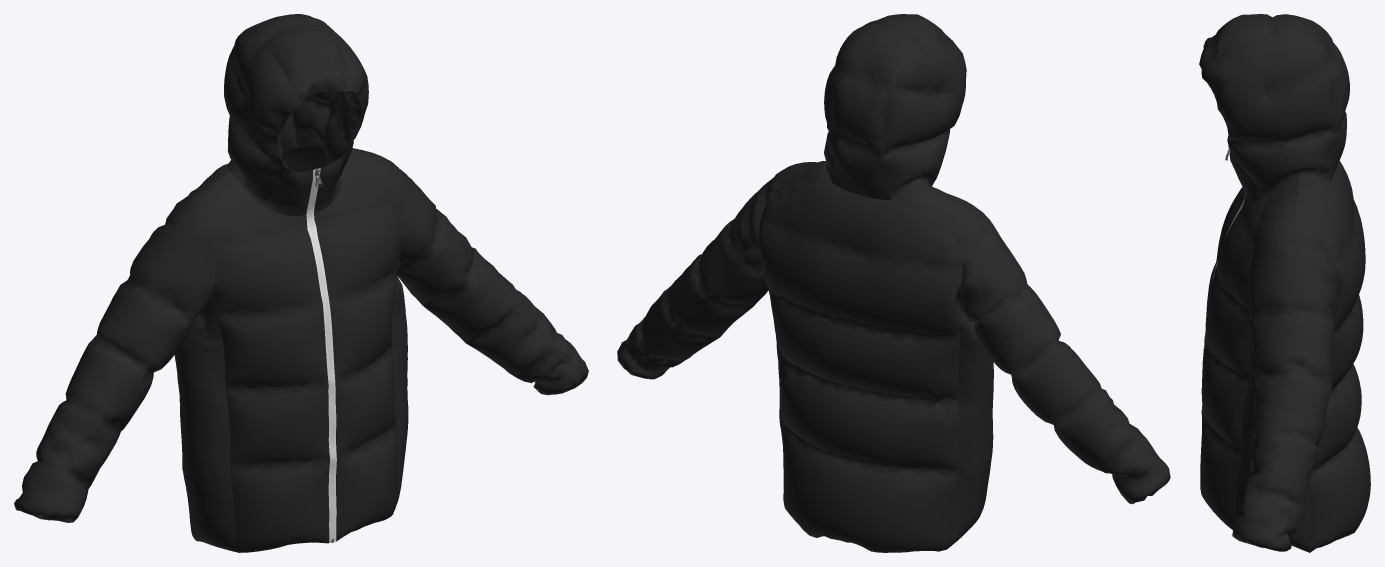
File: blackairjacket.glb
The picture shows the model from 3 angles, left to right: view 1: azimuth 30°, elevation 25°; view 2: azimuth 150°, elevation 25°; view 3: azimuth 270°, elevation 25°; orthographic projection. The views are drawn at different scales.
Visible parts, largest first — view 1: RN20M4.0026_Node_5, RN20M4.0049_Node_37, RN20M4.0027_Node_7, RN20M4.0046_Node_36, RN20M4.0030_Node_18, RN20M4Z.0048_Node_4, RN20M4Z.0053_Node_15, RN20M4Z.0060_Node_35, RN20M4.0048_Node_39, RN20M4.0028_Node_8, RN20M4Z.0057_Node_31, RN20M4Z.0056_Node_34 (+8 smaller); view 2: RN20M4.0017_Node_6, RN20M4.0049_Node_37, RN20M4Z.0048_Node_4, RN20M4.0046_Node_36, RN20M4Z.0057_Node_31, RN20M4.0030_Node_18, RN20M4.0035_Node_10, RN20M4.0032_Node_2, RN20M4Z.0060_Node_35, RN20M4Z.0055_Node_30, RN20M4Z.0056_Node_34; view 3: RN20M4.0046_Node_36, RN20M4.0017_Node_6, RN20M4.0027_Node_7, RN20M4Z.0055_Node_30, RN20M4Z.0048_Node_4, RN20M4Z.0058_Node_32, RN20M4Z.0059_Node_33, RN20M4.0028_Node_8, RN20M4.0047_Node_38, RN20M4.0026_Node_5, RN20M4Z.0044_Node_9.
Part boxes in pixels (x1,y1,x2,y2): RN20M4.0026_Node_5: (213, 205, 330, 552); RN20M4.0049_Node_37: (14, 164, 229, 522); RN20M4.0027_Node_7: (314, 184, 402, 541); RN20M4.0046_Node_36: (352, 148, 588, 395); RN20M4.0030_Node_18: (174, 287, 239, 552); RN20M4Z.0048_Node_4: (238, 14, 352, 149); RN20M4Z.0053_Node_15: (292, 91, 362, 164); RN20M4Z.0060_Node_35: (230, 98, 290, 204); RN20M4.0048_Node_39: (171, 172, 259, 252); RN20M4.0028_Node_8: (391, 240, 408, 510); RN20M4Z.0057_Node_31: (224, 35, 276, 171); RN20M4Z.0056_Node_34: (246, 61, 301, 131); RN20M4.0017_Node_6: (758, 181, 962, 552); RN20M4.0049_Node_37: (892, 187, 1170, 503); RN20M4Z.0048_Node_4: (830, 14, 954, 199); RN20M4.0046_Node_36: (617, 161, 832, 369); RN20M4Z.0057_Node_31: (880, 39, 946, 199); RN20M4.0030_Node_18: (947, 288, 993, 548); RN20M4.0035_Node_10: (626, 235, 767, 379); RN20M4.0032_Node_2: (957, 285, 1132, 503); RN20M4Z.0060_Node_35: (922, 93, 965, 186); RN20M4Z.0055_Node_30: (824, 20, 876, 182); RN20M4Z.0056_Node_34: (939, 39, 966, 94); RN20M4.0046_Node_36: (1232, 181, 1338, 551); RN20M4.0017_Node_6: (1307, 160, 1370, 552); RN20M4.0027_Node_7: (1200, 195, 1262, 529); RN20M4Z.0055_Node_30: (1239, 38, 1339, 183); RN20M4Z.0048_Node_4: (1199, 14, 1349, 180); RN20M4Z.0058_Node_32: (1218, 94, 1298, 199); RN20M4Z.0059_Node_33: (1201, 45, 1266, 109); RN20M4.0028_Node_8: (1235, 332, 1310, 552); RN20M4.0047_Node_38: (1253, 184, 1298, 251); RN20M4.0026_Node_5: (1202, 187, 1244, 431); RN20M4Z.0044_Node_9: (1229, 150, 1262, 201).
Size of the model in its own units: 1.23 by 1.07 by 0.3366.
Materials: 11 (10 with a texture image).
